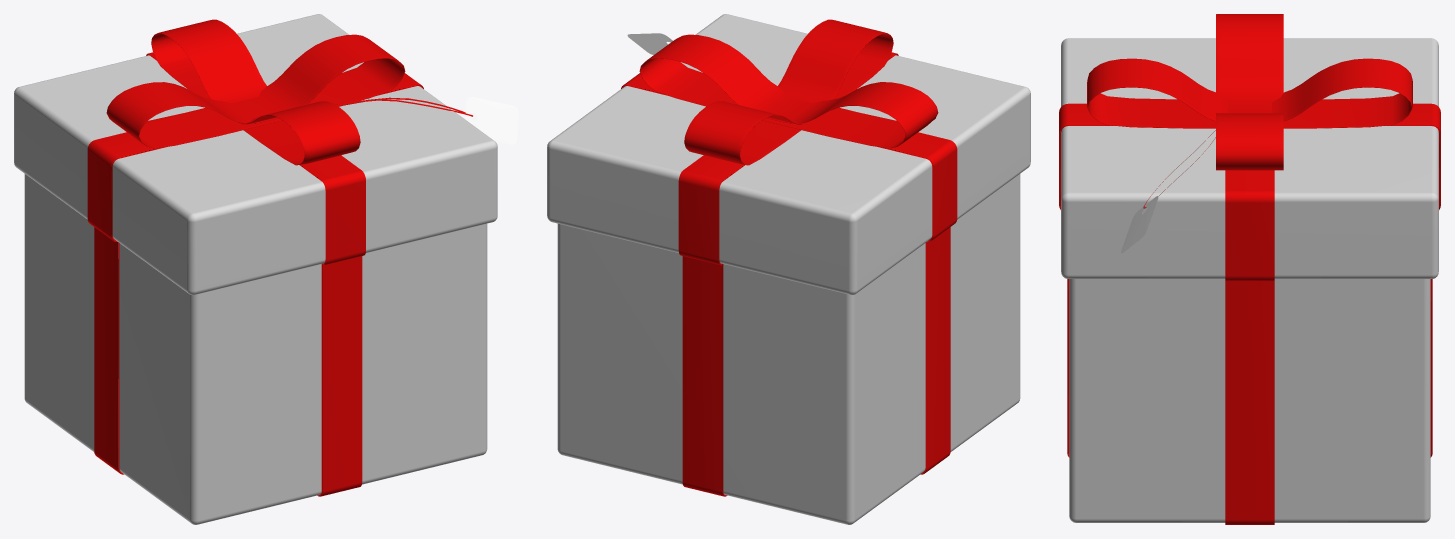
File: boxR.fbx
3 renders of one model, left to right at view 1: azimuth 30°, elevation 25°; view 2: azimuth 150°, elevation 25°; view 3: azimuth 270°, elevation 25°, orthographic. The views are drawn at different scales.
Visible parts, largest first — view 1: ChamferBox02, ChamferBox03, Rectangle01; view 2: ChamferBox02, ChamferBox03, Rectangle01; view 3: ChamferBox02, ChamferBox03, Rectangle01.
Part boxes in pixels (box(x1,y1,x2,y2)): ChamferBox02: box(14, 14, 497, 524); ChamferBox03: box(87, 19, 423, 496); Rectangle01: box(465, 97, 518, 144); ChamferBox02: box(547, 14, 1030, 524); ChamferBox03: box(621, 19, 957, 496); Rectangle01: box(627, 33, 672, 54); ChamferBox02: box(1061, 38, 1438, 522); ChamferBox03: box(1059, 14, 1440, 524); Rectangle01: box(1121, 196, 1158, 253).
Size of the model in its own units: 11.11 by 10.35 by 9.44.
